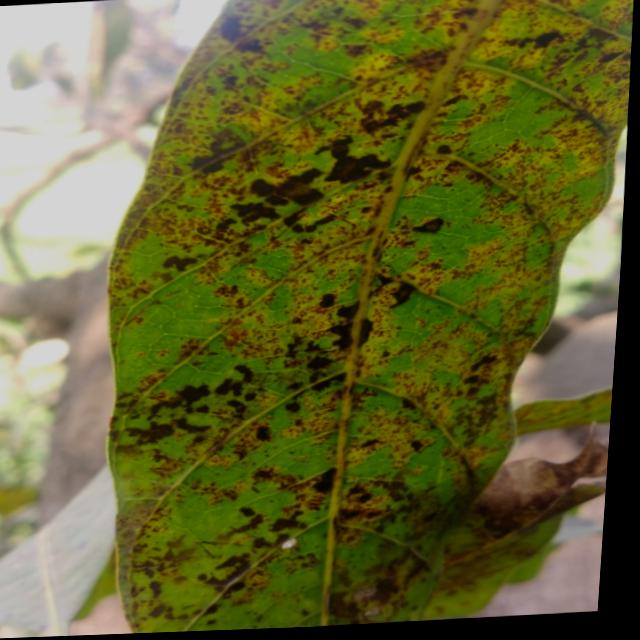Anthracnose: (233, 124, 431, 253), (134, 371, 295, 450), (312, 283, 385, 362), (214, 18, 278, 61)
